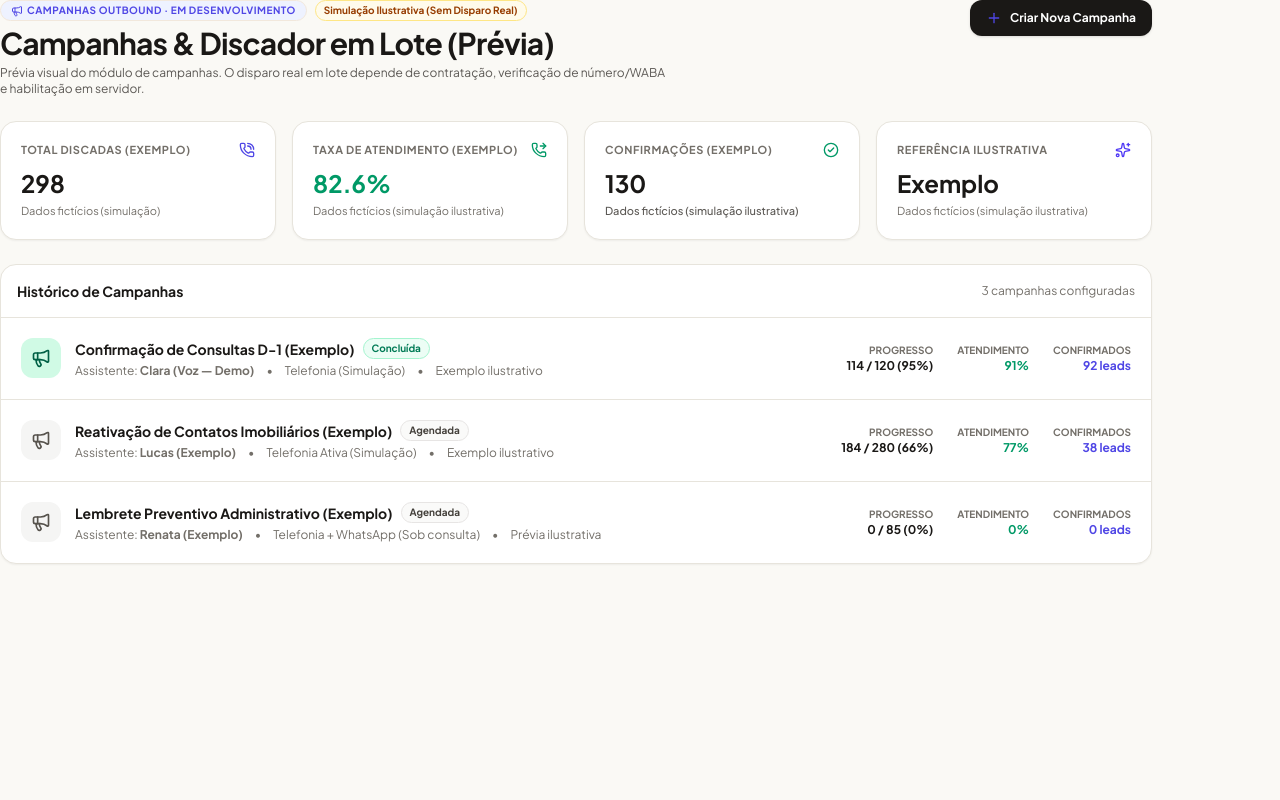
Test: Auditoria de exemplos e demonstrações para setores sensíveis › Painel (InsideDashboardSection), OutboundCampaignsSection, AgencySubaccountsSection e TestCallModal utilizam contatos fictícios e exigem aprovação profissional
This screenshot has width=1280, height=800.
Later steps or results of the test are not shown.
What coordinates should you click on to do the following:
click the button "Criar Nova Campanha"
I would click on:
 (1061, 18)
Its box is x1=970 y1=0 x2=1152 y2=36.
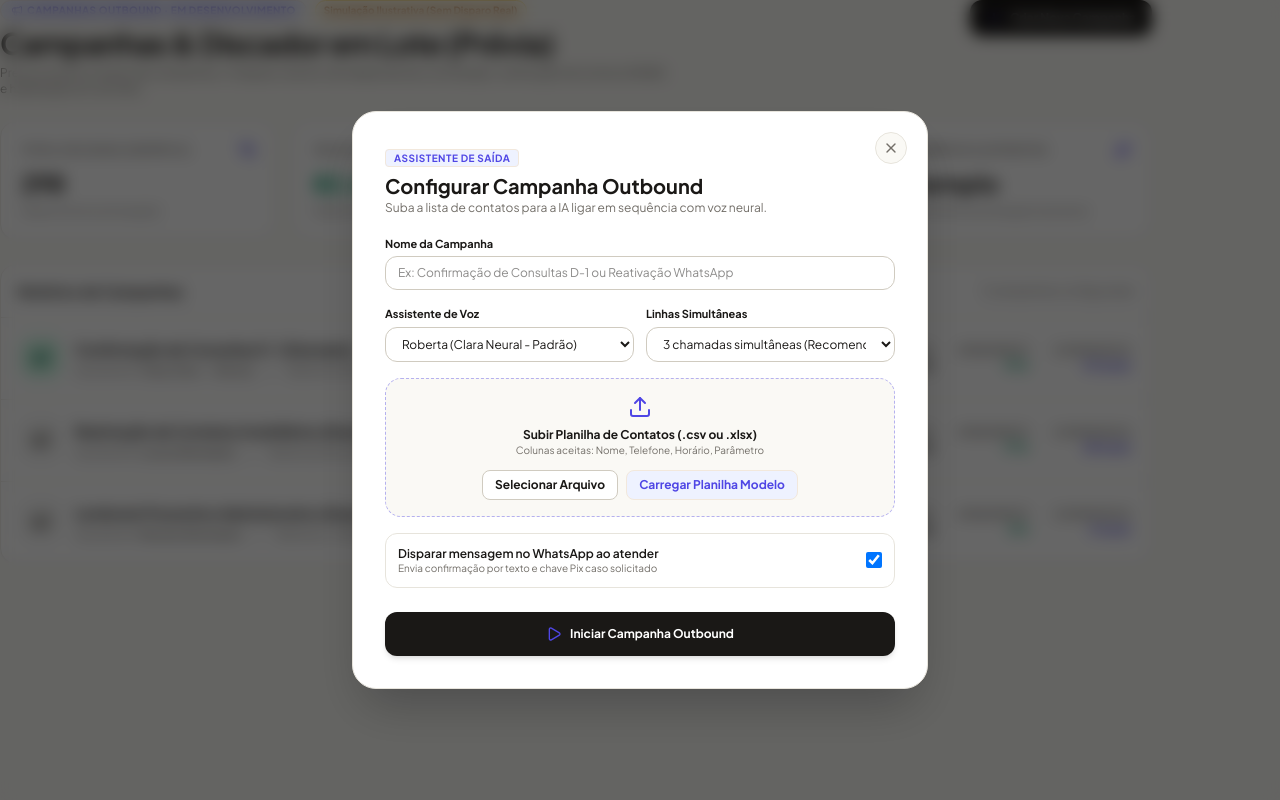
What coordinates should you click on to do the following:
click the button "Carregar Planilha Modelo"
I would click on:
 (712, 485)
Its box is x1=626 y1=470 x2=798 y2=500.
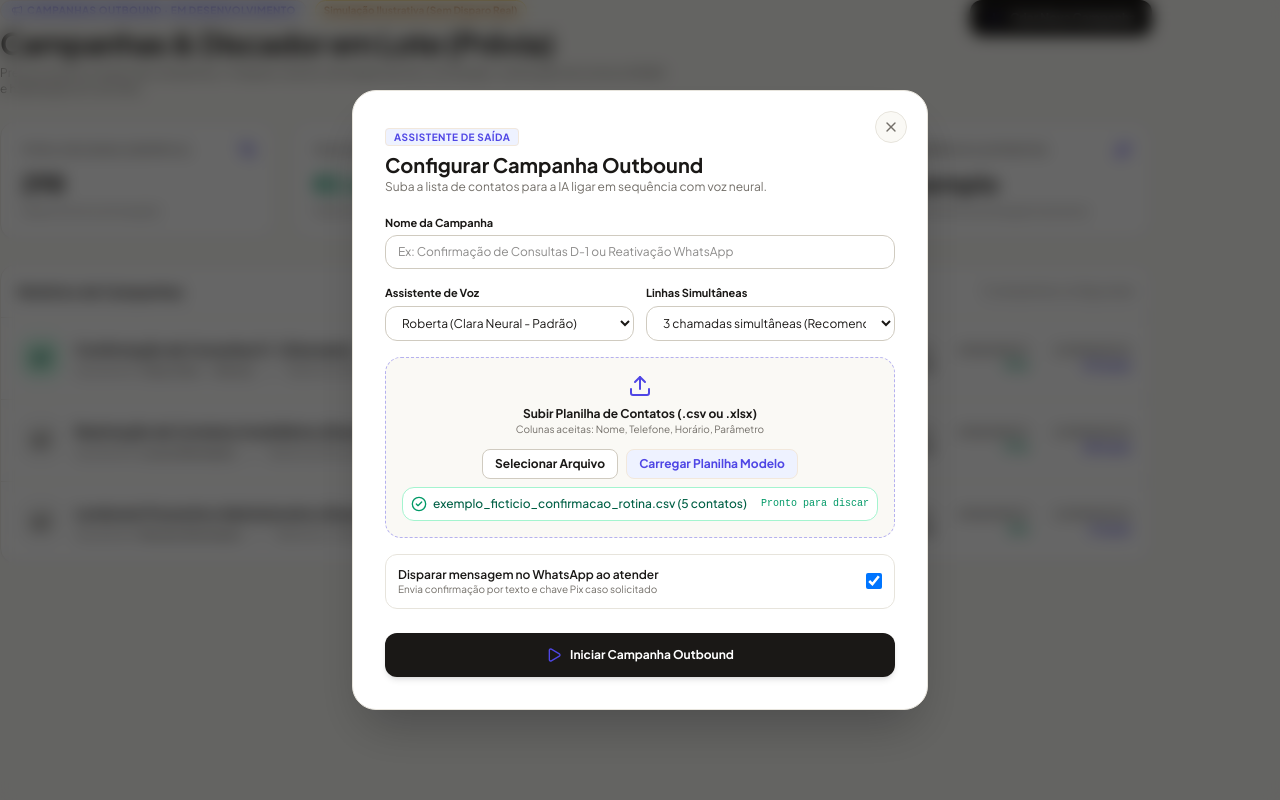
Now the text "exemplo_ficticio_confirmacao_rotina.csv (5 contatos)" is shown, box x1=411 y1=496 x2=747 y2=512
